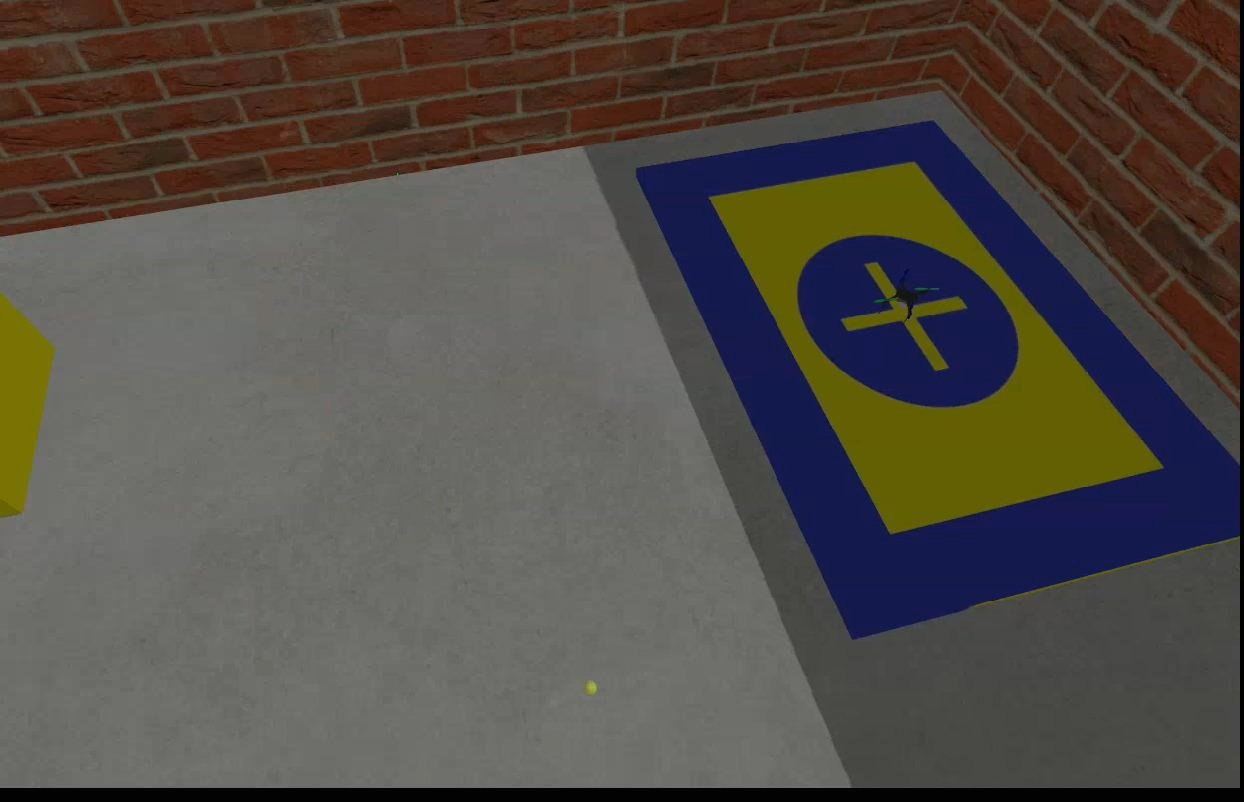large_base: (631, 118, 1236, 643)
